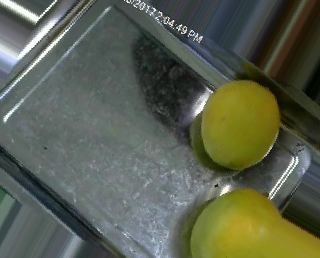Mango: (202, 80, 279, 170), (191, 190, 281, 258)
